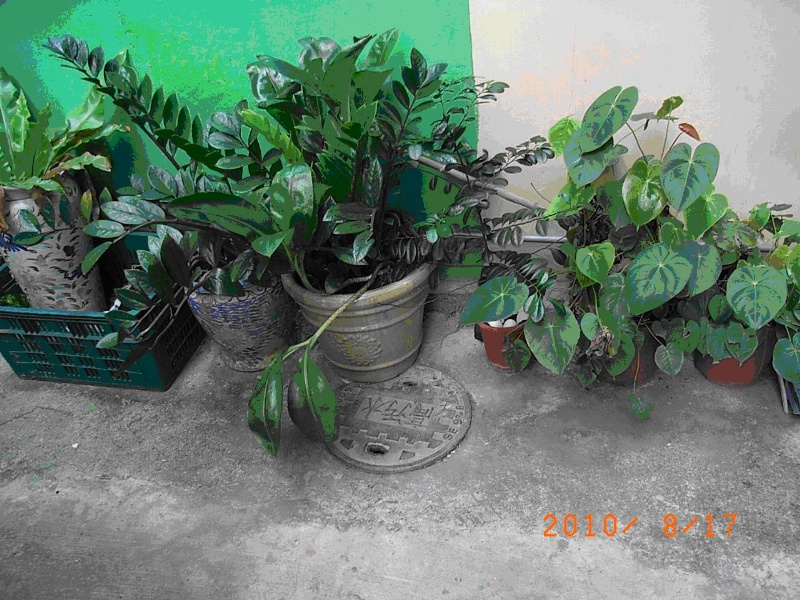bottle: (282, 265, 433, 381), (1, 178, 108, 311), (184, 263, 293, 372)
